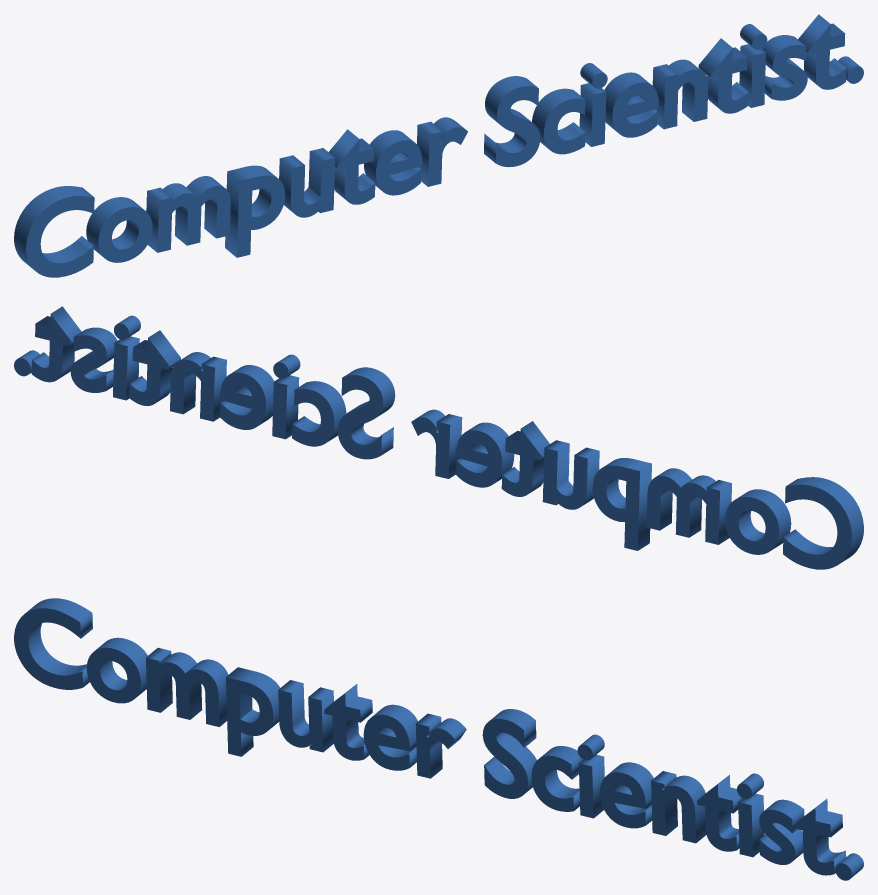
File: computerscientist.glb
3 renders of one model, top to bottom at view 1: azimuth 30°, elevation 25°; view 2: azimuth 150°, elevation 25°; view 3: azimuth 330°, elevation 25°, orthographic.
Parts seen in each view (by area): view 1: Text; view 2: Text; view 3: Text.
Part boxes in pixels (x1,y1,x2,y2): Text: (14, 14, 863, 277); Text: (14, 306, 863, 569); Text: (14, 598, 863, 880).
Bounding box in the file's own units: 8.04 × 0.9702 × 0.2505.
